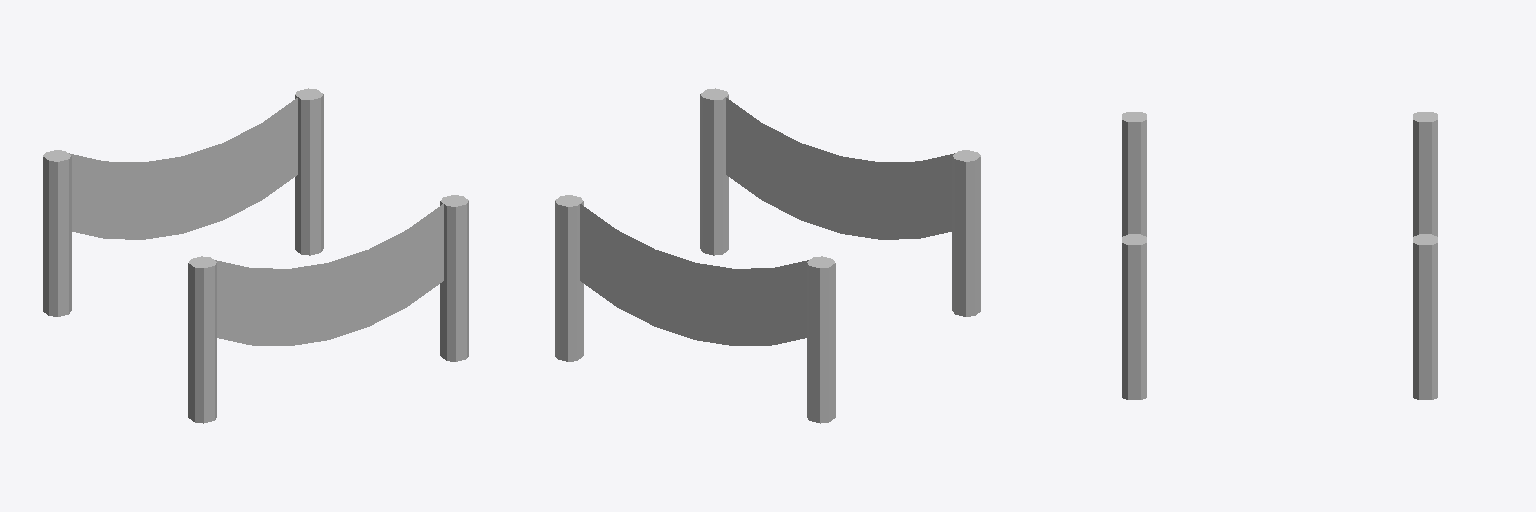
File: banner-hanging-double.obj
The picture shows the model from 3 angles: view 1: azimuth 30°, elevation 25°; view 2: azimuth 150°, elevation 25°; view 3: azimuth 270°, elevation 25°; orthographic projection.
Visible parts, largest first — view 1: banner-hanging-double; view 2: banner-hanging-double; view 3: banner-hanging-double.
Part boxes in pixels (bbox=[...]): banner-hanging-double: bbox=[43, 88, 468, 423]; banner-hanging-double: bbox=[555, 88, 980, 423]; banner-hanging-double: bbox=[1122, 112, 1437, 399].
Bounding box in the file's own units: 0.925 × 0.5 × 0.925.